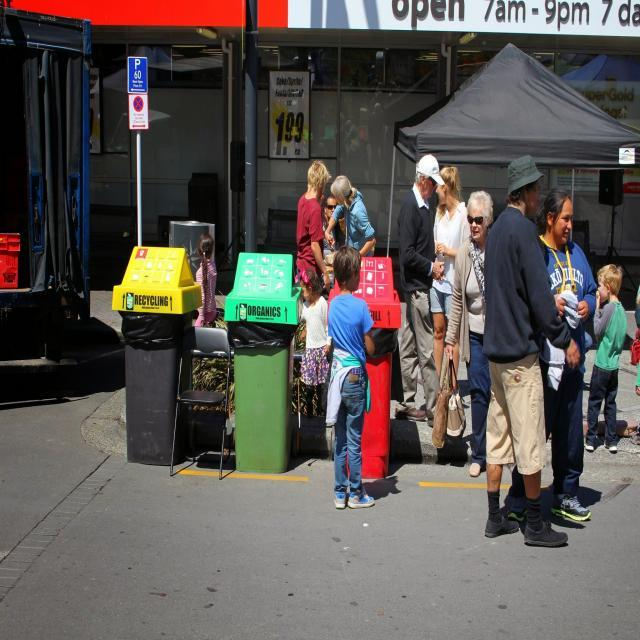bin: (105, 238, 204, 477), (221, 240, 304, 480)
